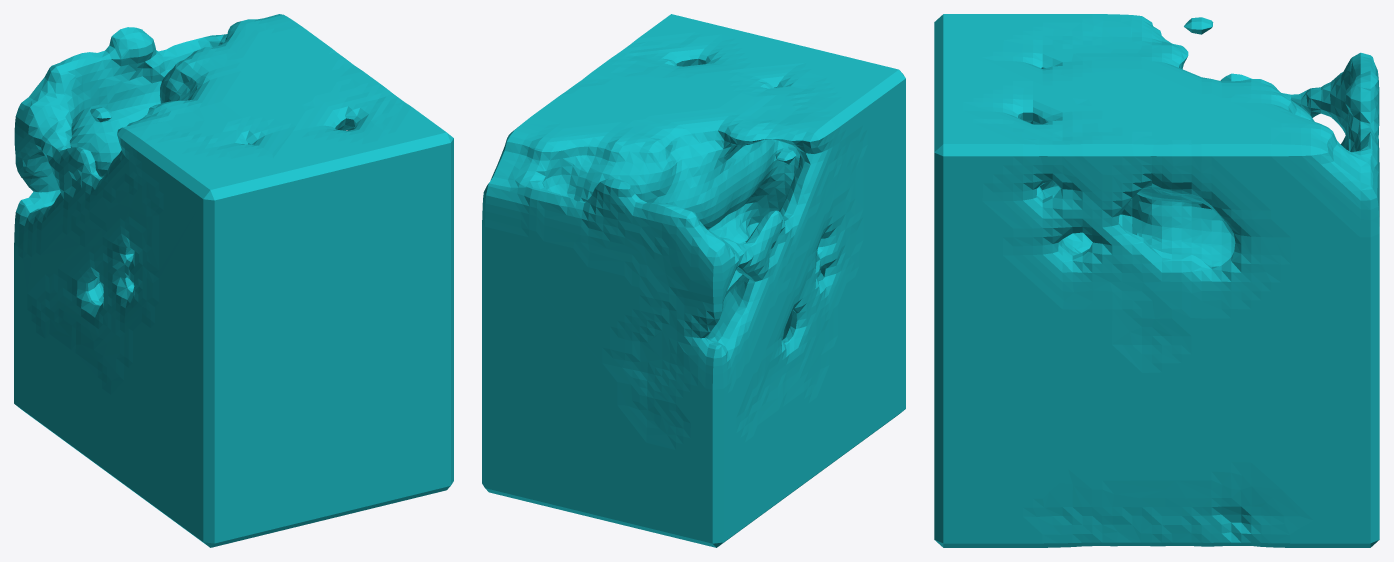
3 renders of one model, left to right at view 1: azimuth 30°, elevation 25°; view 2: azimuth 150°, elevation 25°; view 3: azimuth 270°, elevation 25°, orthographic. The views are drawn at different scales.
Visible parts, largest first — view 1: Liquid_Domain; view 2: Liquid_Domain; view 3: Liquid_Domain.
Boxes of the visible parts, x1,y1,x2,y2 form: Liquid_Domain: [14, 14, 453, 547]; Liquid_Domain: [482, 14, 905, 547]; Liquid_Domain: [934, 14, 1379, 547].
Bounding box in the file's own units: 79.09 × 108 × 108.
